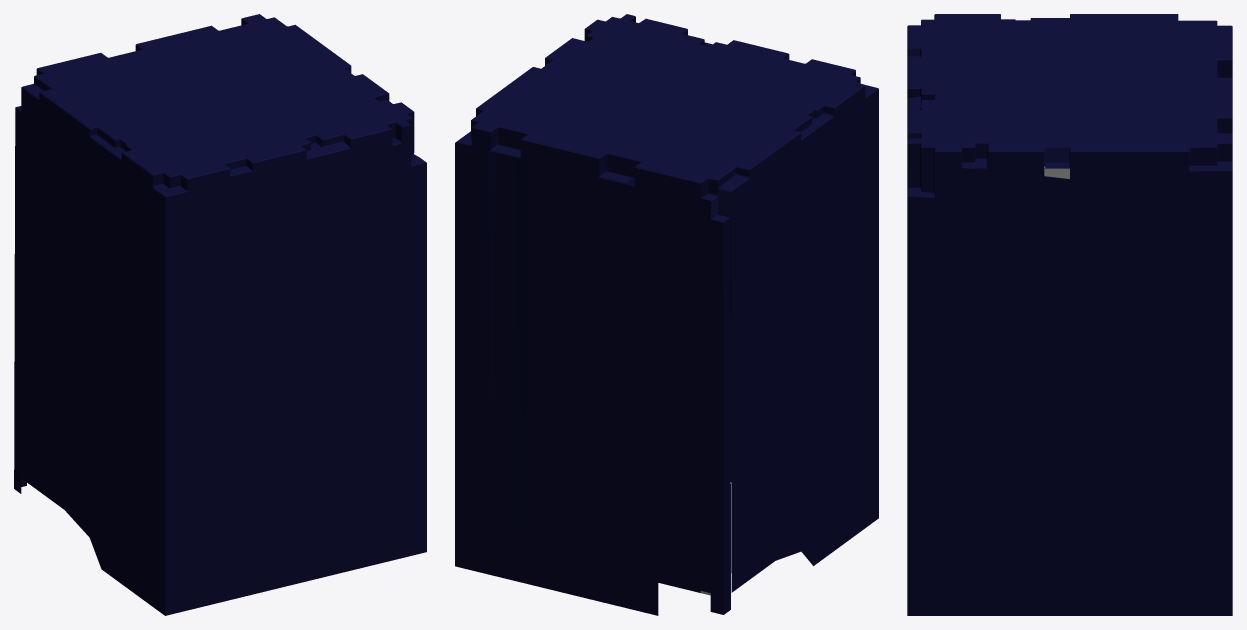
The model's file is main_cube.FBX.
The picture shows the model from 3 angles, left to right: view 1: azimuth 30°, elevation 25°; view 2: azimuth 150°, elevation 25°; view 3: azimuth 270°, elevation 25°; orthographic projection. The views are drawn at different scales.
Visible parts, largest first — view 1: Box028; view 2: Box028; view 3: Box028.
Part boxes in pixels (x1=…): Box028: x1=14, y1=14, x2=426, y2=615; Box028: x1=455, y1=14, x2=878, y2=615; Box028: x1=907, y1=14, x2=1232, y2=615.
Size of the model in its own units: 197 by 310 by 197.
